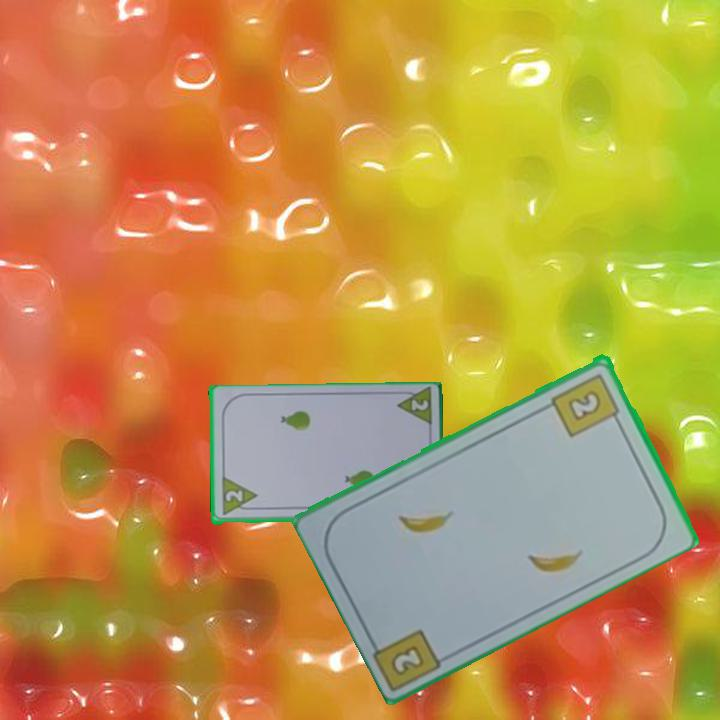2b: (548, 369, 624, 440), (387, 640, 428, 679)
2p: (222, 487, 245, 506), (407, 397, 431, 414)
